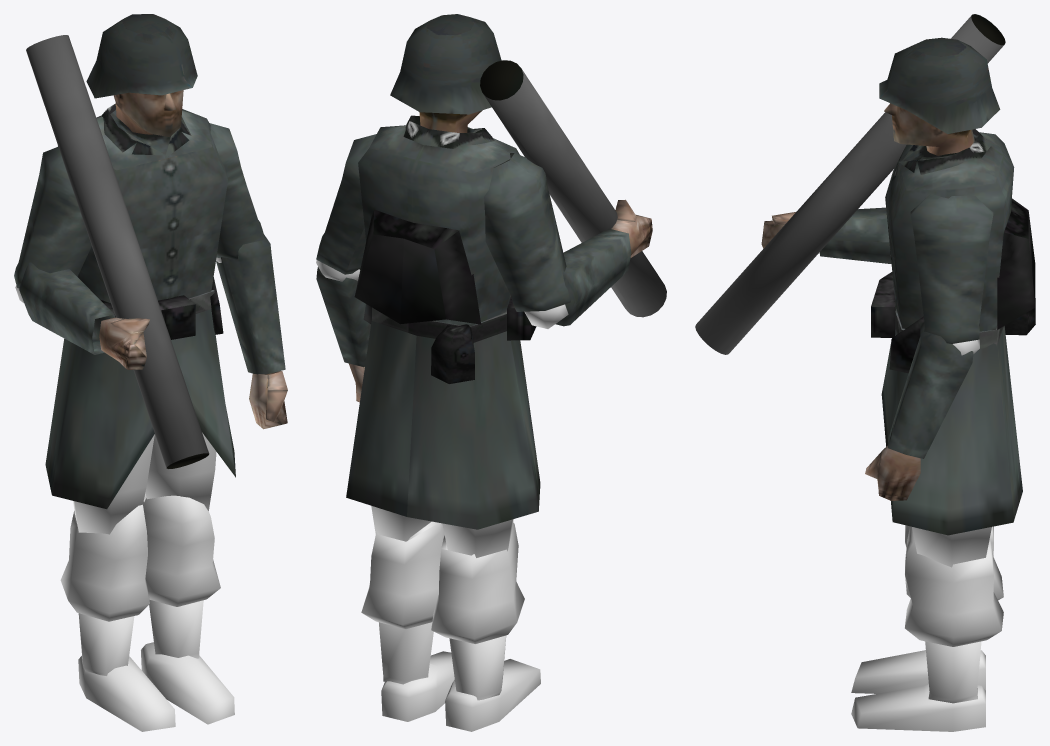
File: gerinfmort.dae
The picture shows the model from 3 angles, left to right: view 1: azimuth 30°, elevation 25°; view 2: azimuth 150°, elevation 25°; view 3: azimuth 270°, elevation 25°; orthographic projection. The views are drawn at different scales.
Parts seen in each view (by area): view 1: torso, gun, rloleg, lloleg, head, lloarm, ruparm, rloarm, lfoot, rfoot, luparm, lupleg (+3 smaller); view 2: torso, gun, rloleg, ruparm, lloleg, head, rloarm, luparm, rfoot, lfoot, lloarm, rupleg (+3 smaller); view 3: torso, gun, lloleg, head, luparm, lloarm, lfoot, rloarm, rfoot, lupleg, lhand.
Part boxes in pixels (<box>): torso: <box>45,103,235,509</box>; gun: <box>26,35,209,468</box>; rloleg: <box>60,504,149,675</box>; lloleg: <box>143,494,220,658</box>; head: <box>86,14,197,136</box>; lloarm: <box>216,233,285,374</box>; ruparm: <box>14,146,91,288</box>; rloarm: <box>19,262,114,354</box>; lfoot: <box>141,642,234,724</box>; rfoot: <box>78,656,175,731</box>; luparm: <box>209,123,264,259</box>; lupleg: <box>145,432,216,510</box>; torso: <box>346,115,540,529</box>; gun: <box>480,60,666,317</box>; rloleg: <box>431,522,524,700</box>; ruparm: <box>484,153,570,311</box>; lloleg: <box>361,521,444,684</box>; head: <box>390,14,501,132</box>; rloarm: <box>555,228,631,326</box>; luparm: <box>316,134,376,274</box>; rfoot: <box>445,659,540,731</box>; lfoot: <box>381,651,454,721</box>; lloarm: <box>316,267,370,366</box>; rupleg: <box>442,519,513,557</box>; torso: <box>871,129,1035,535</box>; gun: <box>695,14,1005,354</box>; lloleg: <box>905,526,1003,703</box>; head: <box>879,37,1000,155</box>; luparm: <box>910,193,993,343</box>; lloarm: <box>888,322,973,458</box>; lfoot: <box>851,684,985,731</box>; rloarm: <box>819,207,891,263</box>; rfoot: <box>851,650,985,693</box>; lupleg: <box>912,527,991,567</box>; lhand: <box>865,445,920,500</box>.
Bounding box in the file's own units: 8.66 × 10.51 × 22.54.
3 materials, 1 textured.
